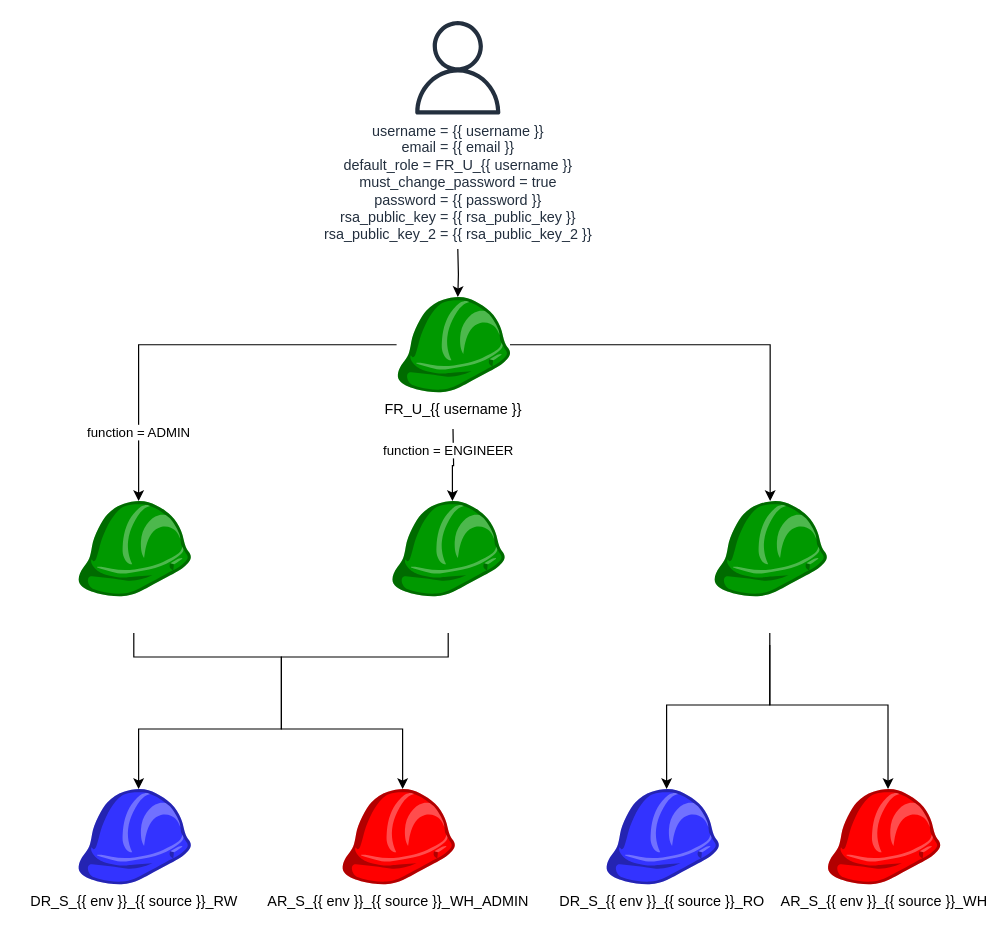
This 1008x930 diagram has some shape labels left out. The shapes that lost their labels are listed below. From the top down, each one's centre as x and y in pixels, then its label:
(x=133, y=548): FR_S_{{ env }}_{{ source }}_ADMIN
(x=447, y=548): FR_S_{{ env }}_{{ source }}_ENGINEER
(x=769, y=548): FR_S_{{ env }}_{{ source }}_READER
